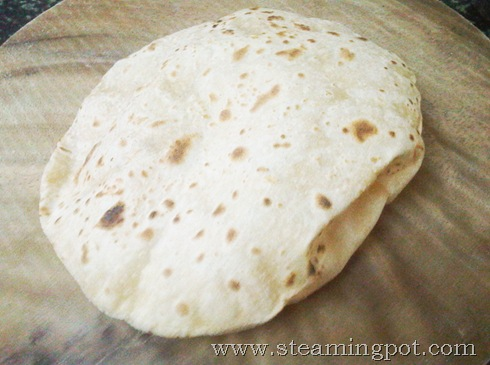roti: (46, 7, 438, 338)
